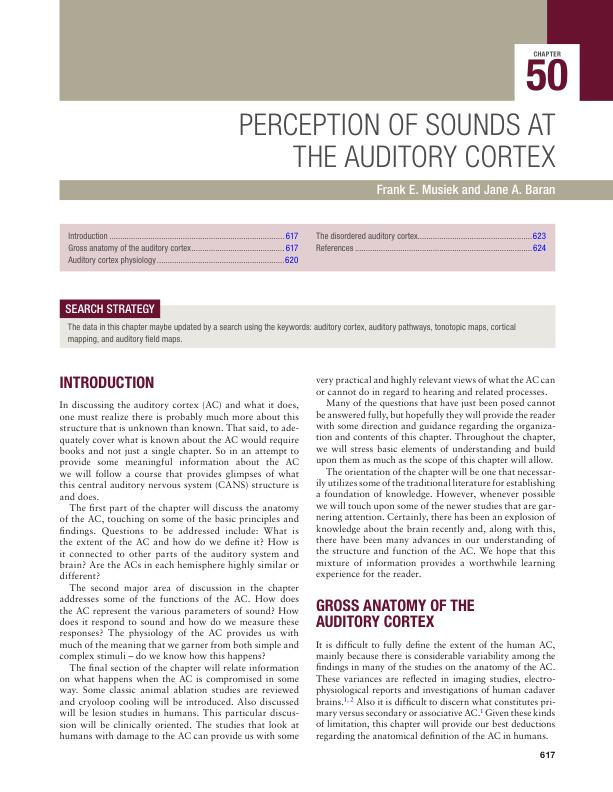chapter-heading: (236, 110, 558, 171)
section-heading: (315, 597, 475, 630), (58, 374, 156, 390)
text: (58, 399, 300, 742), (314, 374, 556, 580), (314, 639, 556, 742)
